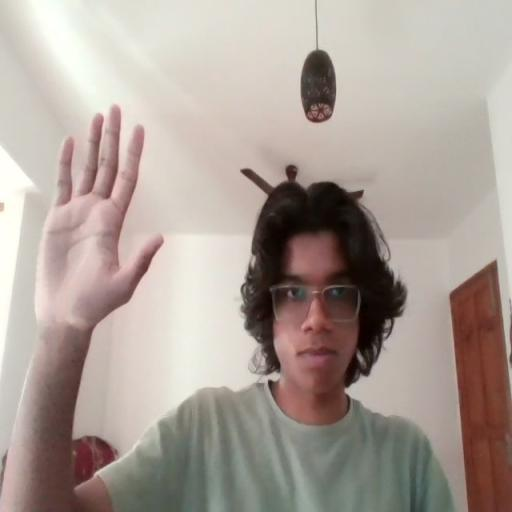Paper: (33, 97, 166, 329)
